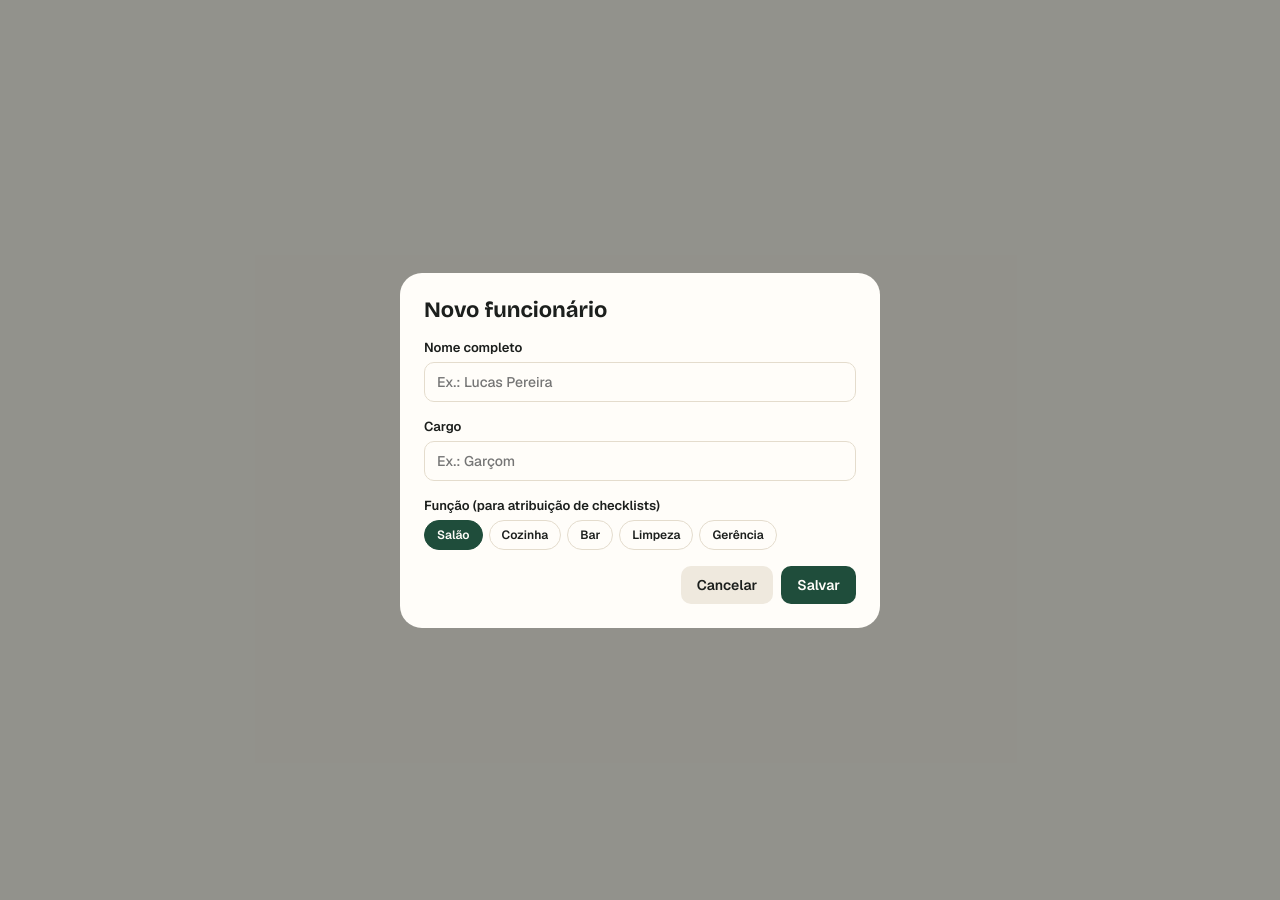
US13 — modal de funcionário › cadastra funcionário sem PIN (sucesso)
The image size is (1280, 900).
Expected: the dialog "Novo funcionário" is shown, [400, 272, 880, 628]
Type "Lucas Pereira" into the field labelled "Nome completo" at (640, 382), box [424, 362, 856, 402]
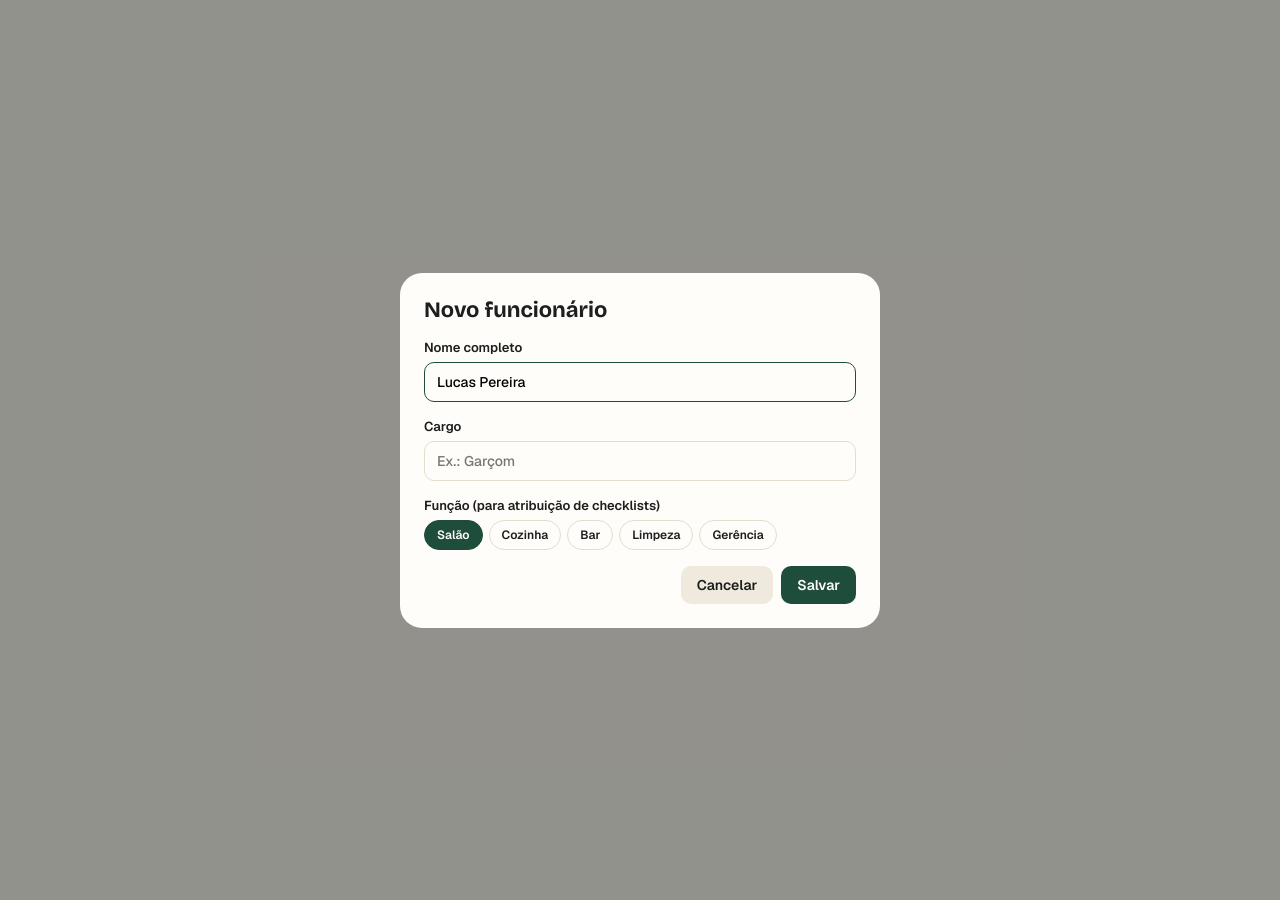
Type "Garçom" into the field labelled "Cargo" at (640, 460), box [424, 440, 856, 480]
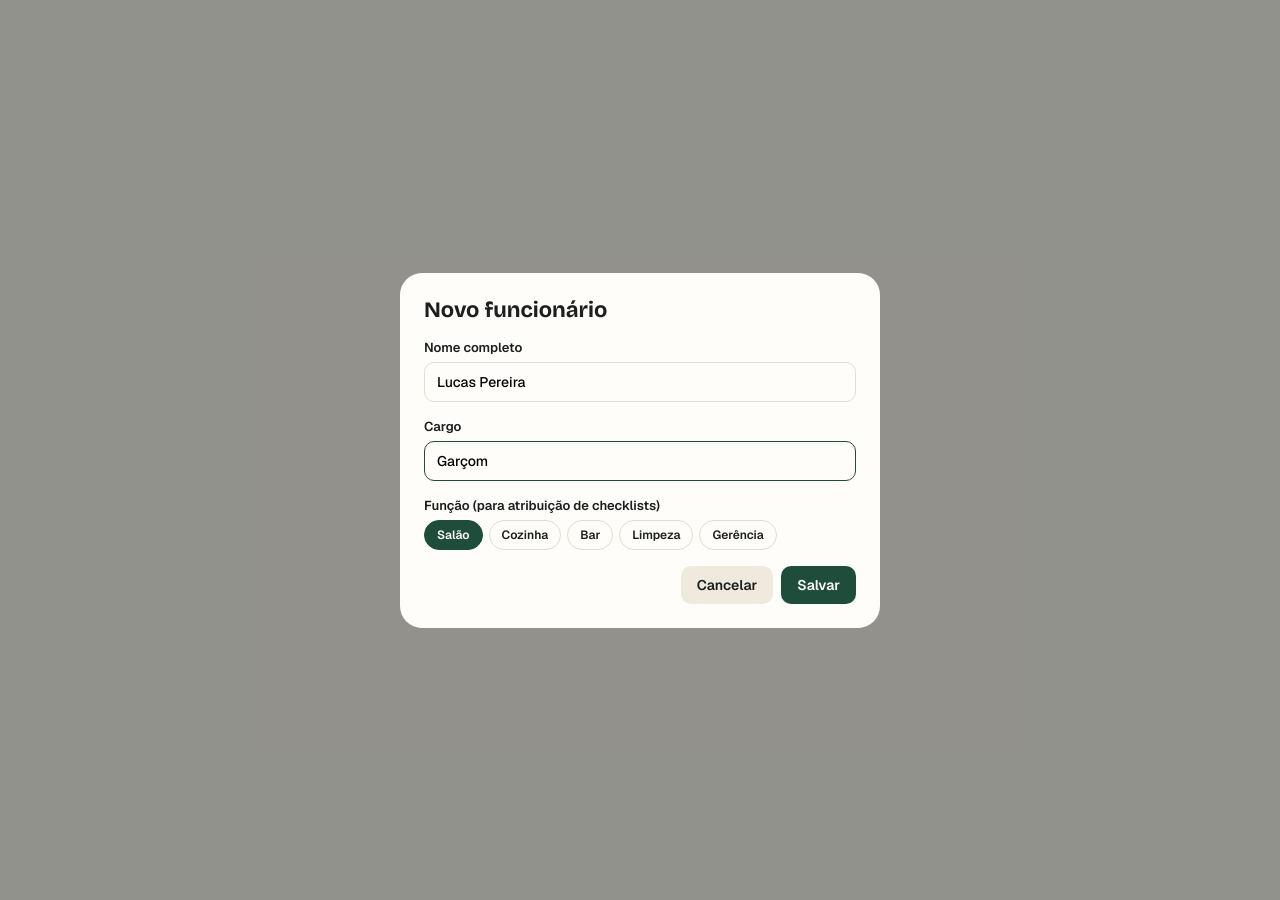
Click the button "Bar" at (590, 534), box [567, 520, 613, 550]
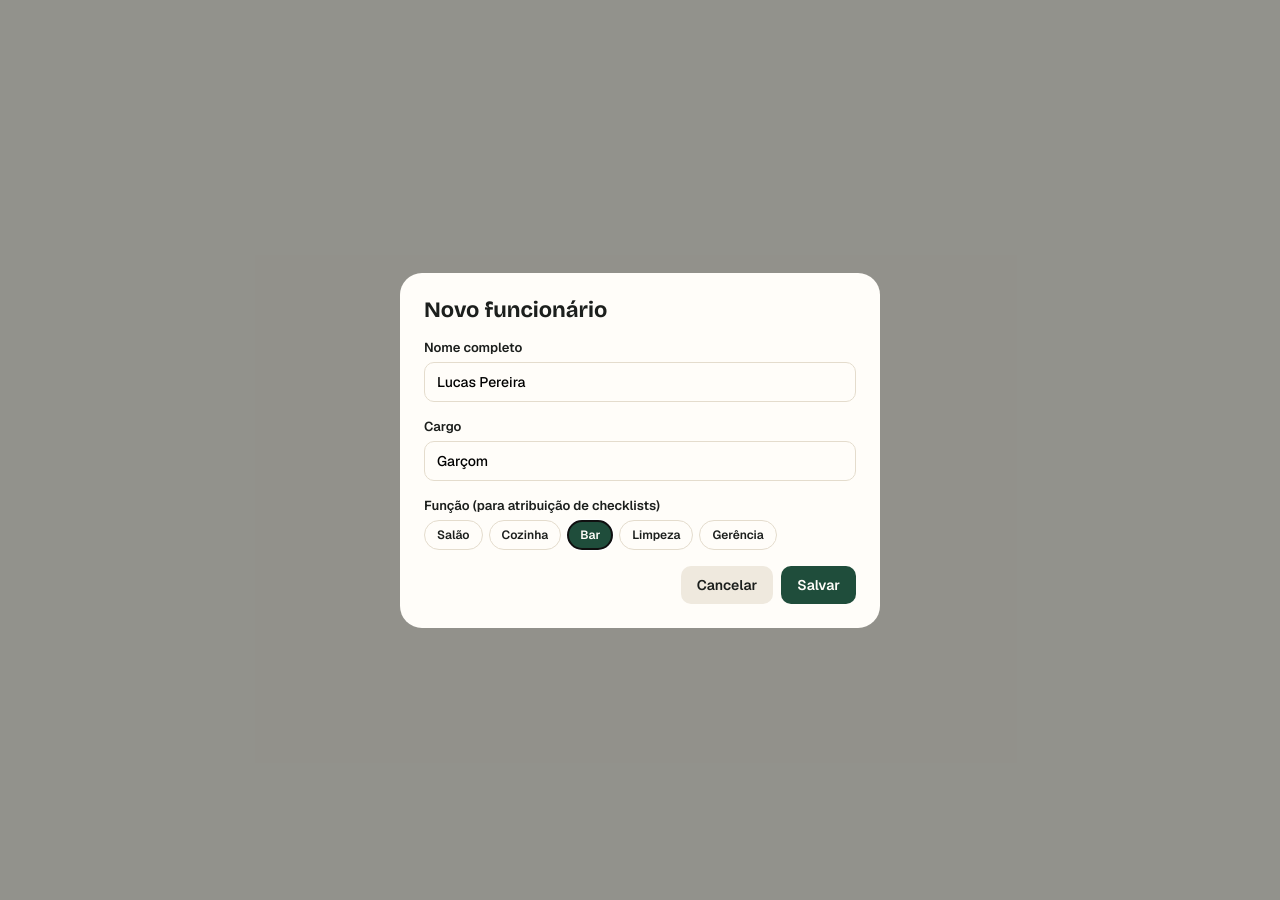
Click the button "Salvar" at (819, 584), box [781, 566, 856, 604]
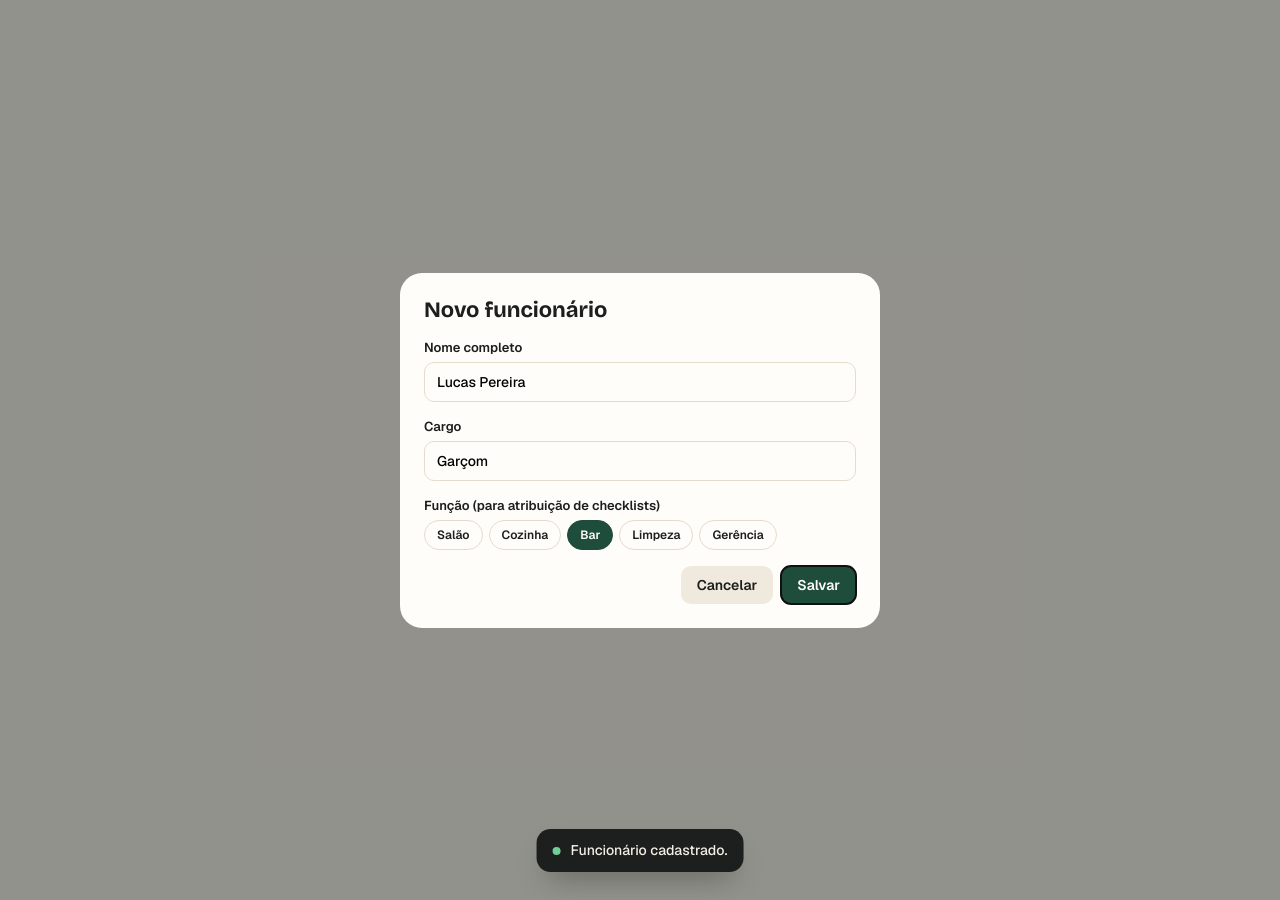
Expected: the message reads "Funcionário cadastrado.", [571, 841, 728, 859]
